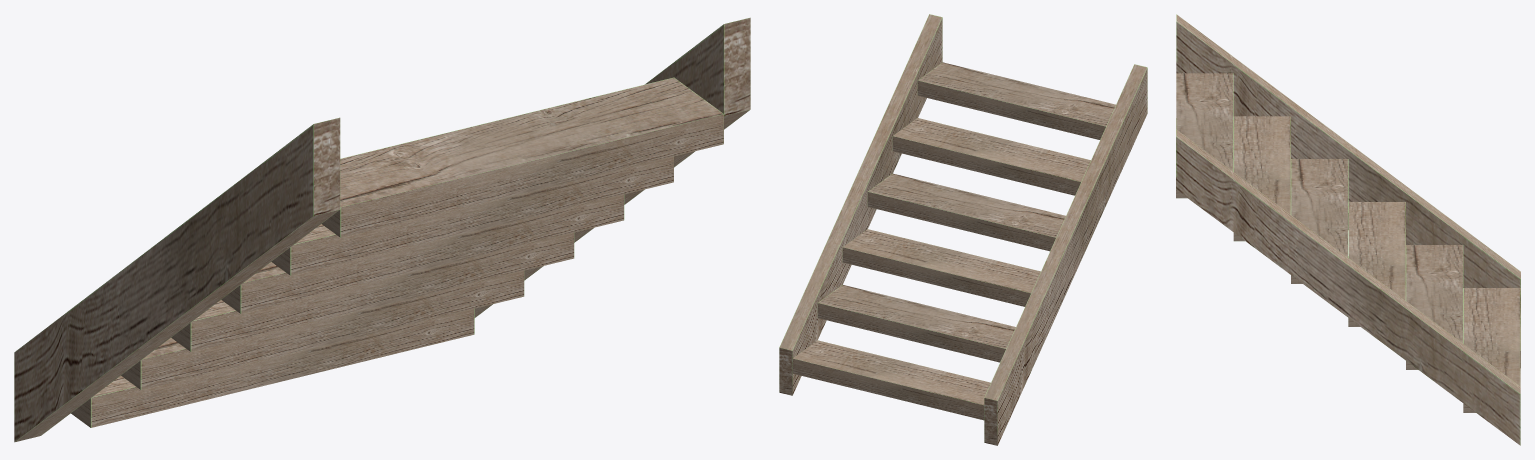
File: Stairs6.FBX
The picture shows the model from 3 angles, left to right: view 1: azimuth 30°, elevation 25°; view 2: azimuth 150°, elevation 25°; view 3: azimuth 270°, elevation 25°; orthographic projection. The views are drawn at different scales.
Parts seen in each view (by area): view 1: Stairs; view 2: Stairs; view 3: Stairs.
Boxes of the visible parts, bbox=[...] form: Stairs: bbox=[14, 17, 750, 442]; Stairs: bbox=[779, 14, 1147, 445]; Stairs: bbox=[1176, 14, 1520, 445].
Bounding box in the file's own units: 208 × 244 × 247.
Materials: 1 (1 with a texture image).
